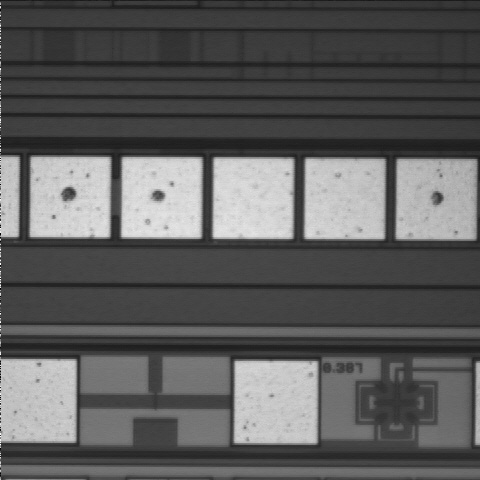pad: (234, 361, 317, 443), (121, 157, 202, 238), (213, 158, 293, 239), (30, 157, 110, 237), (305, 159, 384, 239), (396, 160, 475, 239)
